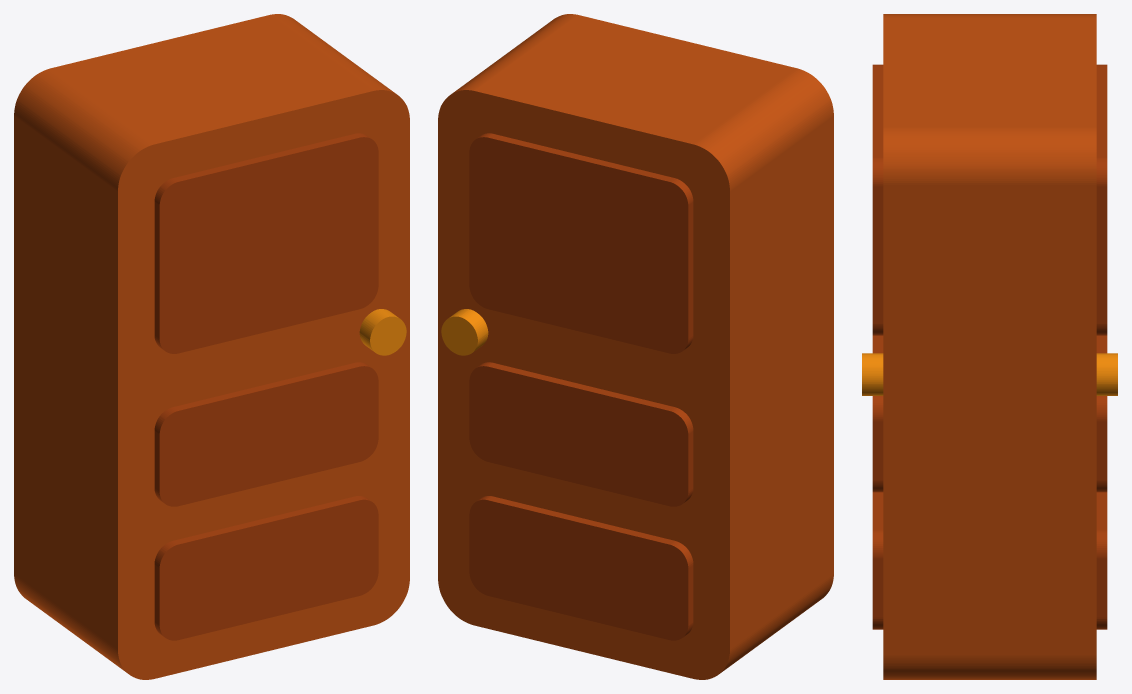
3 renders of one model, left to right at view 1: azimuth 30°, elevation 25°; view 2: azimuth 150°, elevation 25°; view 3: azimuth 270°, elevation 25°, orthographic. The views are drawn at different scales.
Visible parts, largest first — view 1: U+1F6AA_layer00_obj00, U+1F6AA_layer01_obj00, U+1F6AA_layer02_obj00; view 2: U+1F6AA_layer00_obj00, U+1F6AA_layer01_obj00, U+1F6AA_layer02_obj00; view 3: U+1F6AA_layer00_obj00, U+1F6AA_layer01_obj00, U+1F6AA_layer02_obj00.
Part boxes in pixels (box(x1,y1,x2,y2)): U+1F6AA_layer00_obj00: box(14, 14, 409, 679); U+1F6AA_layer01_obj00: box(154, 133, 378, 640); U+1F6AA_layer02_obj00: box(359, 309, 406, 355); U+1F6AA_layer00_obj00: box(438, 14, 833, 679); U+1F6AA_layer01_obj00: box(469, 133, 693, 640); U+1F6AA_layer02_obj00: box(441, 309, 488, 355); U+1F6AA_layer00_obj00: box(883, 14, 1096, 679); U+1F6AA_layer01_obj00: box(872, 64, 1107, 629); U+1F6AA_layer02_obj00: box(862, 353, 1117, 395).
Bounding box in the file's own units: 0.3246 × 0.5677 × 0.24.
